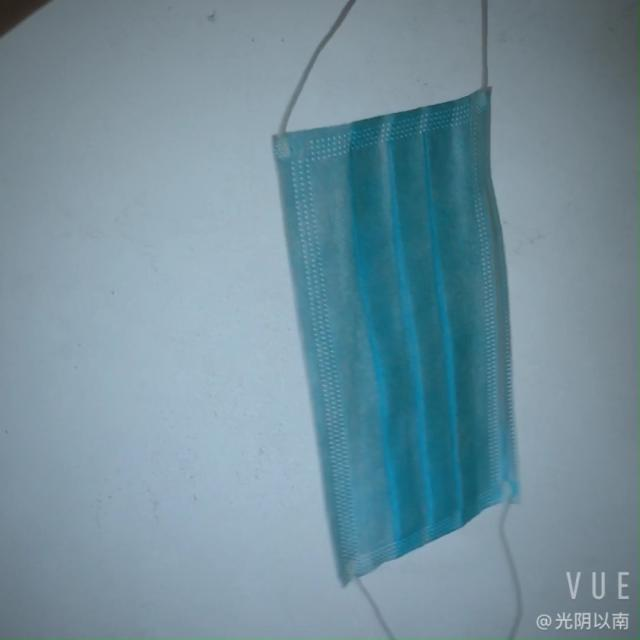face mask: (248, 79, 530, 584)
